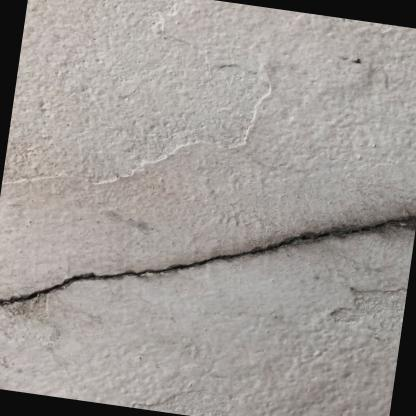crack: (0, 214, 416, 303)
